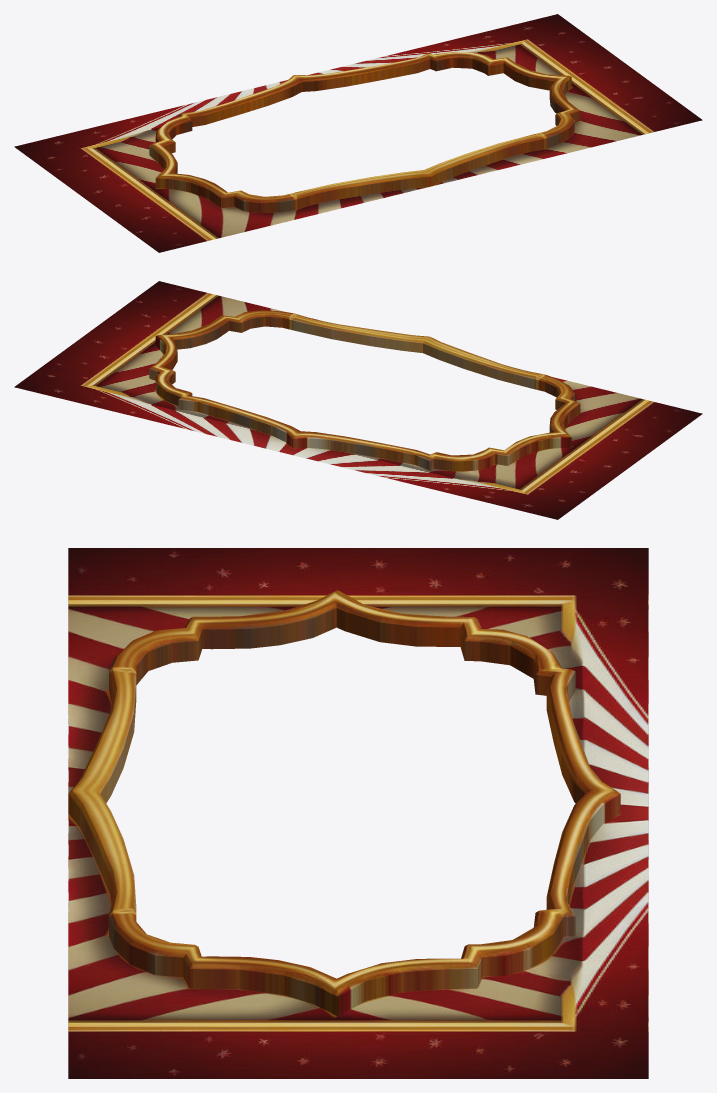
Rendered from circusScreenFrame.fbx.
The picture shows the model from 3 angles, top to bottom: view 1: azimuth 30°, elevation 25°; view 2: azimuth 150°, elevation 25°; view 3: azimuth 270°, elevation 25°; orthographic projection. The views are drawn at different scales.
Visible parts, largest first — view 1: 平面; view 2: 平面; view 3: 平面.
Boxes of the visible parts, x1,y1,x2,y2 form: 平面: [14, 14, 702, 252]; 平面: [14, 281, 702, 519]; 平面: [68, 548, 648, 1078].
Size of the model in its own units: 433 by 8.74 by 200.
